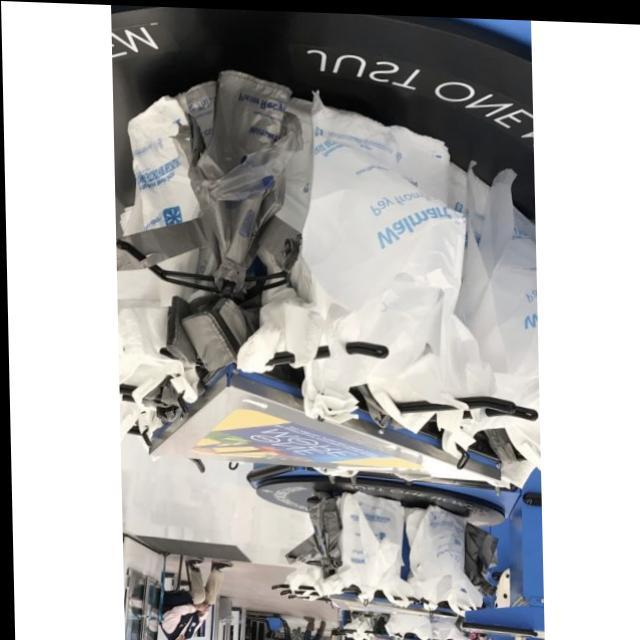Single-layer Plastic: (295, 95, 492, 431), (195, 70, 302, 289), (458, 171, 538, 399), (120, 96, 200, 234), (324, 492, 412, 606), (406, 506, 482, 615)
